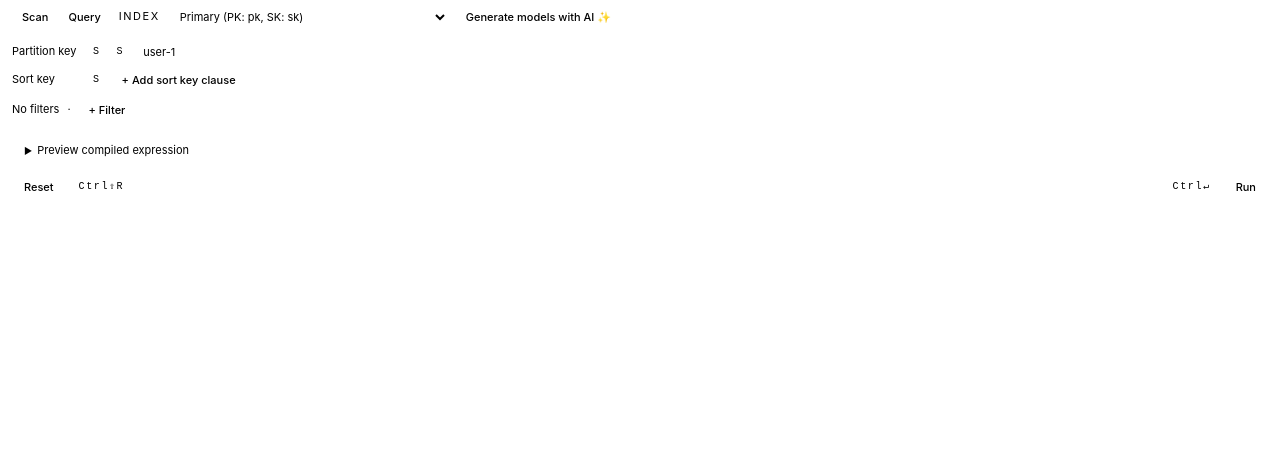
Test case: QueryBuilder › Preview disclosure › shows KeyConditionExpression in Query mode
The image size is (1280, 459).
What coordinates should you click on to do the following:
click the button with test id "preview-toggle"
I would click on:
 (113, 150)
Its box is [12, 138, 1268, 162].
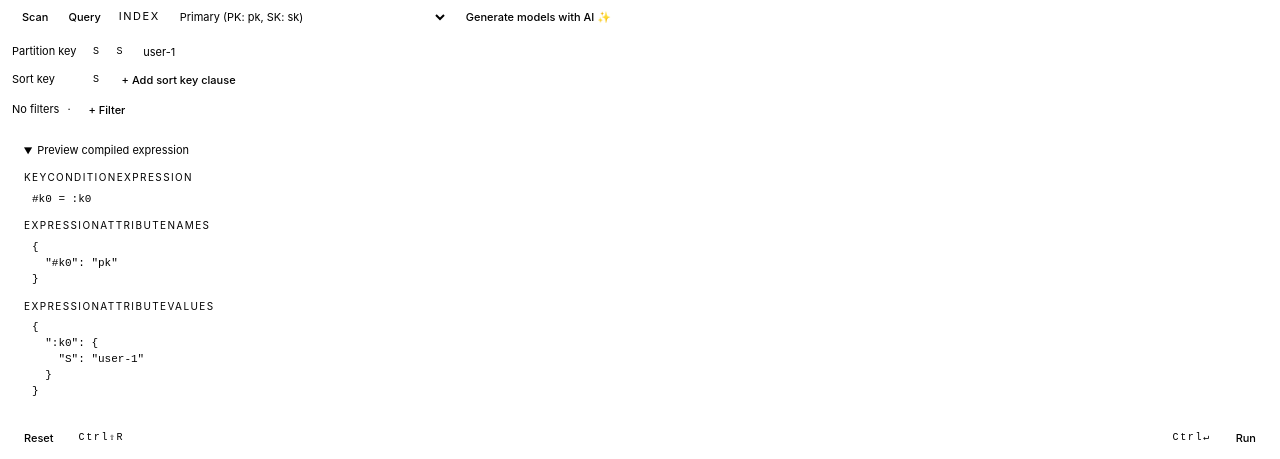
Check: the text with test id "preview-kce" reads "#k0 = :k0", box [32, 192, 91, 204]
